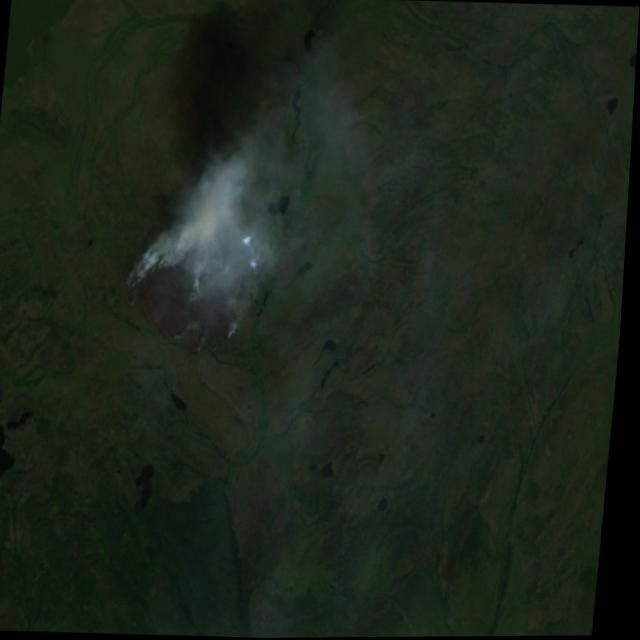fire: (113, 215, 267, 375)
